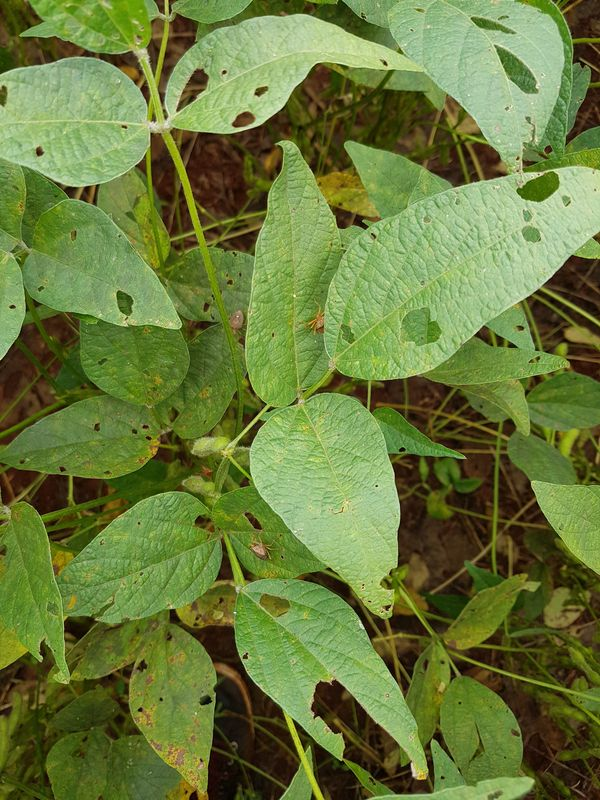Euschistus_heros_adulto: (243, 529, 281, 566), (301, 302, 335, 339), (224, 309, 248, 338)
